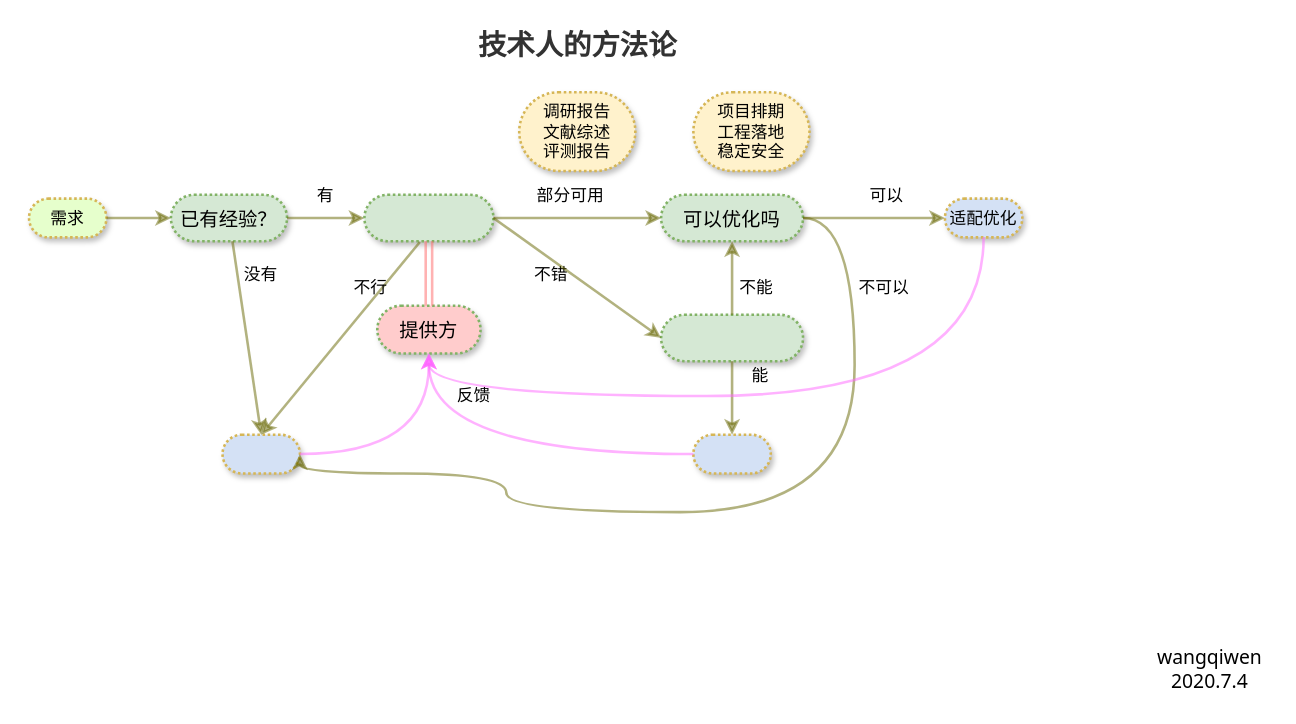
This 1296x724 diagram has some shape labels left out. Here are the shapes that lost their labels. From the top down, the centre of each, then its label:
pixel 429 219: 做得怎么样？
pixel 732 339: 能不能直接用？
pixel 261 455: 完全自建
pixel 732 455: 直接用
